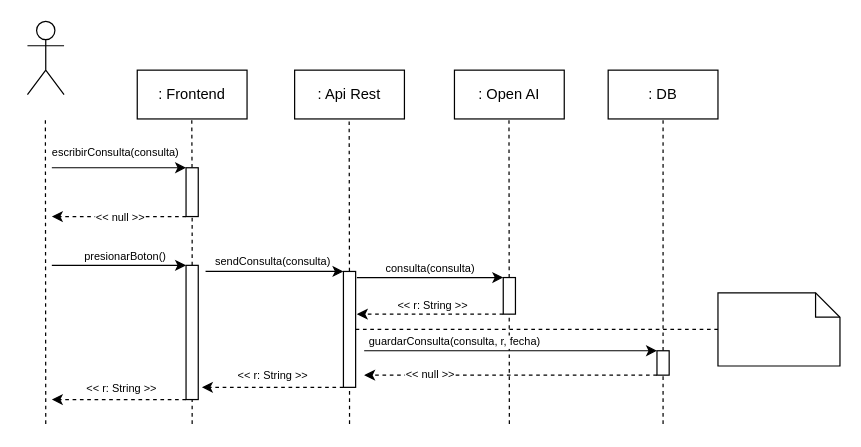
Image size: 861x447. Some labels were removed from this diagram. The shapes that lost their labels are listed below. From the top down, each one's centre as x and y in pixels, then its label:
At (45,57): "Usuario".
At (778,329): "fecha = now()".
